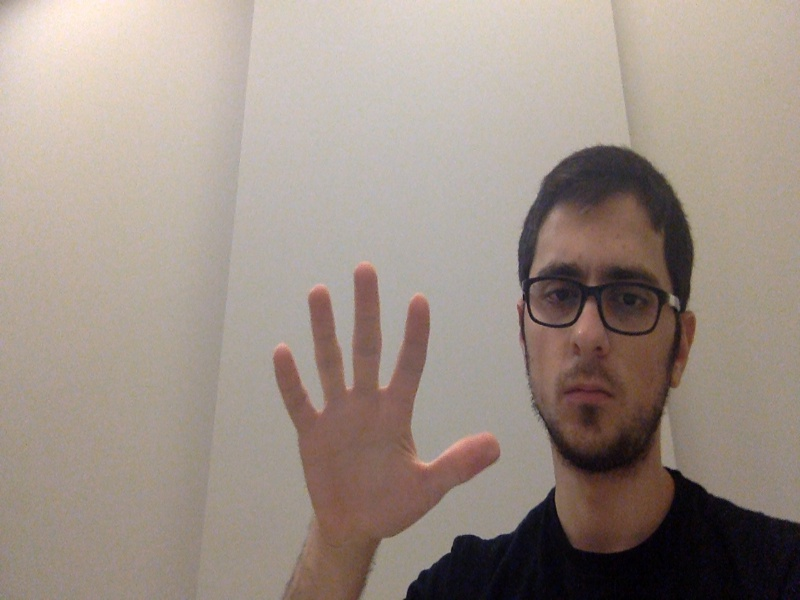5-hand: (271, 262, 501, 539)
